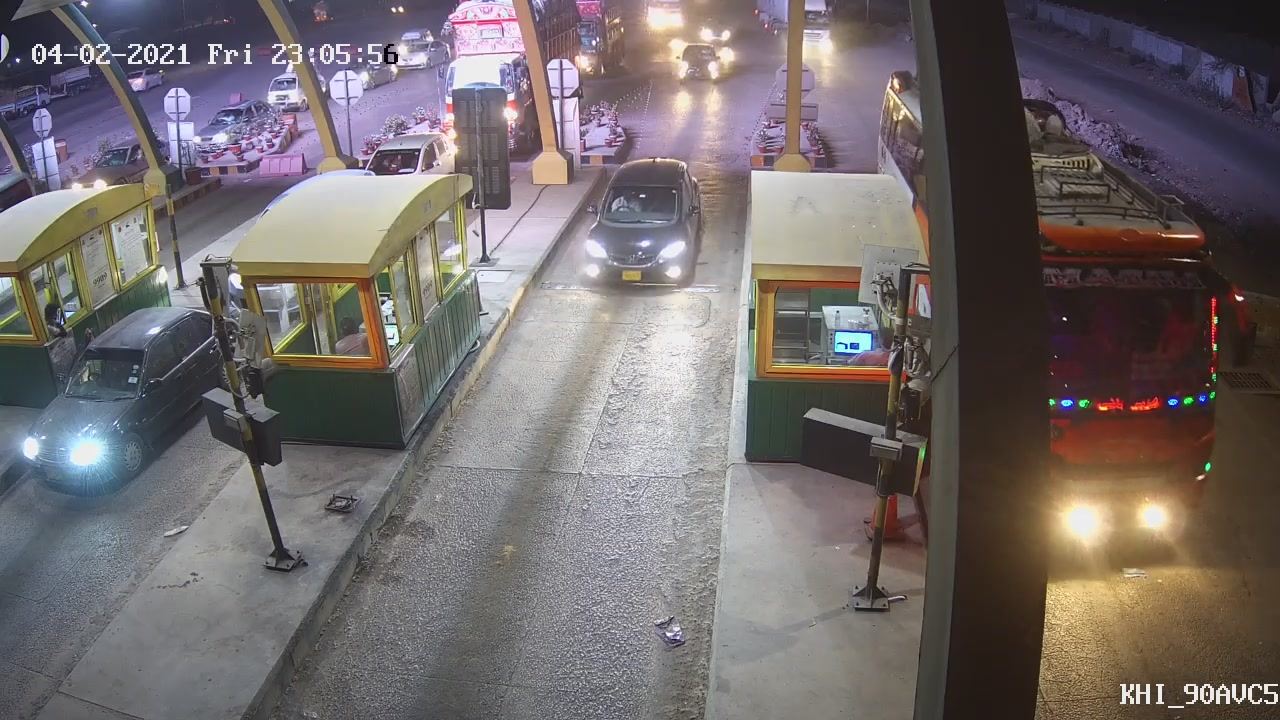F1: (577, 155, 712, 290)
